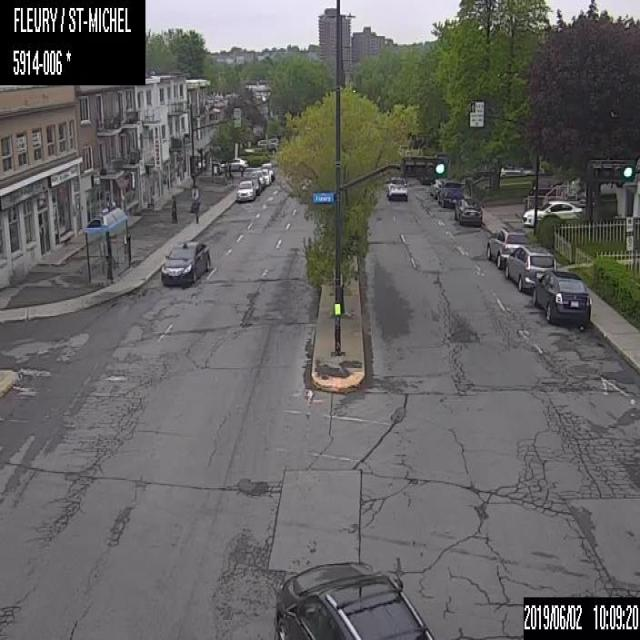pedestrian: (168, 193, 178, 223)
vehicle: (273, 558, 435, 638), (535, 270, 590, 328), (502, 242, 558, 291), (159, 240, 211, 287), (484, 224, 528, 268), (522, 198, 582, 225), (452, 198, 482, 226), (438, 180, 466, 208), (385, 175, 407, 201), (234, 179, 253, 201), (243, 175, 260, 194), (222, 157, 246, 170), (261, 162, 275, 180), (251, 170, 265, 188), (259, 167, 270, 184)
